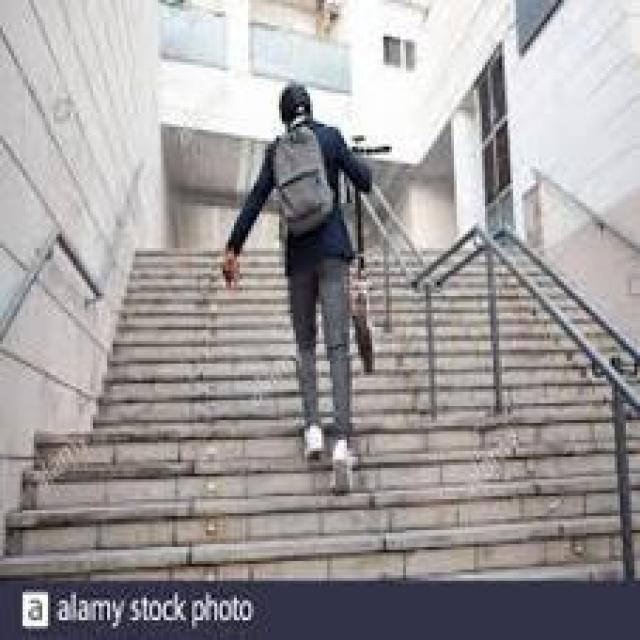stair: (23, 349, 637, 595)
